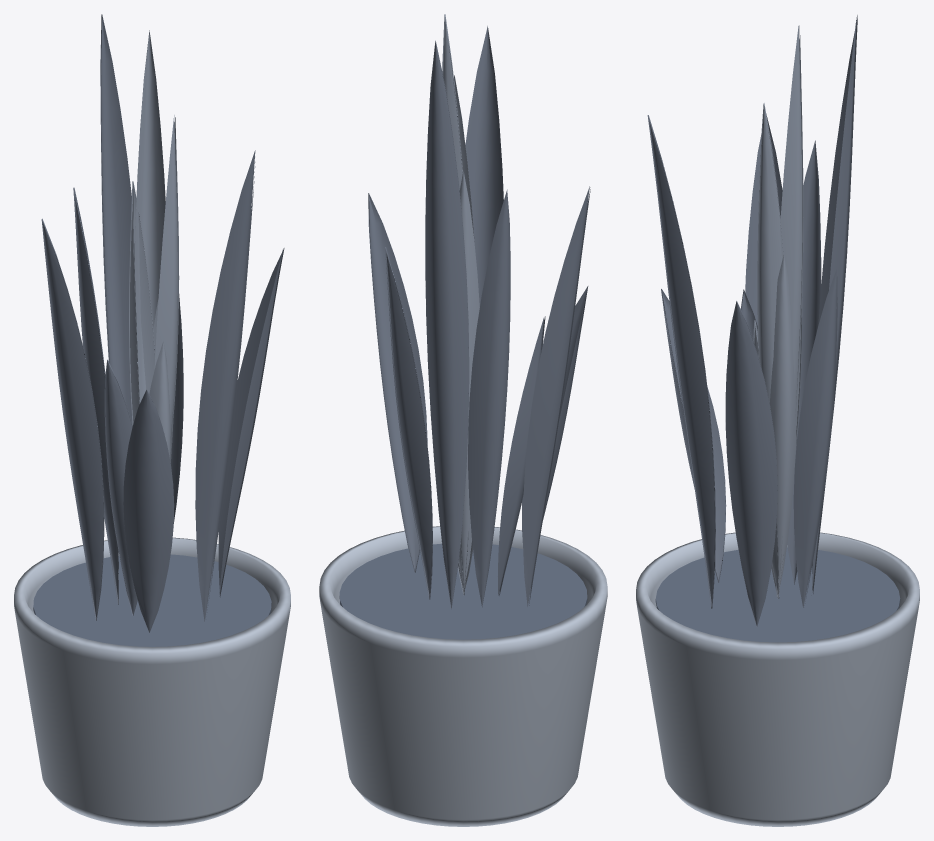
The model's file is plant-snake.glb.
The picture shows the model from 3 angles, left to right: view 1: azimuth 30°, elevation 25°; view 2: azimuth 150°, elevation 25°; view 3: azimuth 270°, elevation 25°; orthographic projection. The views are drawn at different scales.
Parts seen in each view (by area): view 1: soft, body, light, glass; view 2: soft, body, glass, light; view 3: body, soft, light, glass.
Part boxes in pixels (x1,y1,x2,y2): soft: (41, 14, 284, 632); body: (14, 537, 290, 826); light: (129, 30, 179, 462); glass: (33, 554, 271, 646); soft: (368, 26, 590, 609); body: (319, 526, 607, 826); glass: (339, 543, 587, 639); light: (442, 14, 479, 595); body: (636, 532, 919, 826); soft: (647, 15, 857, 626); light: (753, 25, 803, 598); glass: (655, 547, 900, 642).
Size of the model in its own units: 0.2767 by 0.82 by 0.2767.
